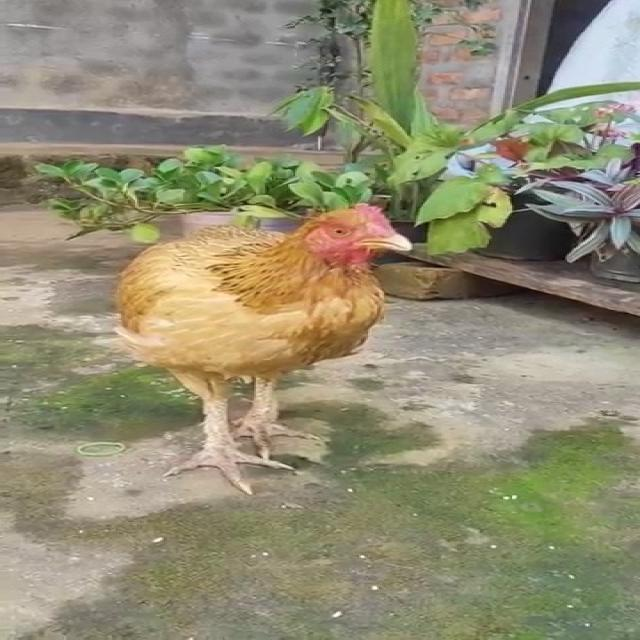Breathing: (110, 201, 414, 496)
